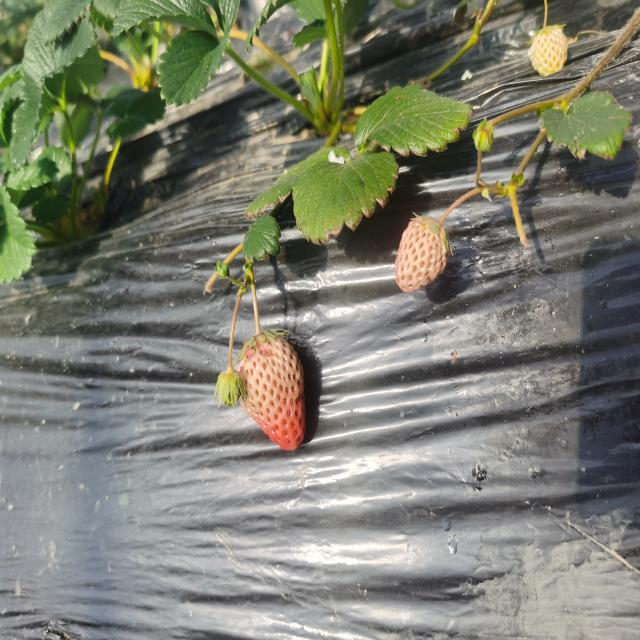stem: (253, 296, 262, 337)
strawberry: (237, 331, 306, 450)
